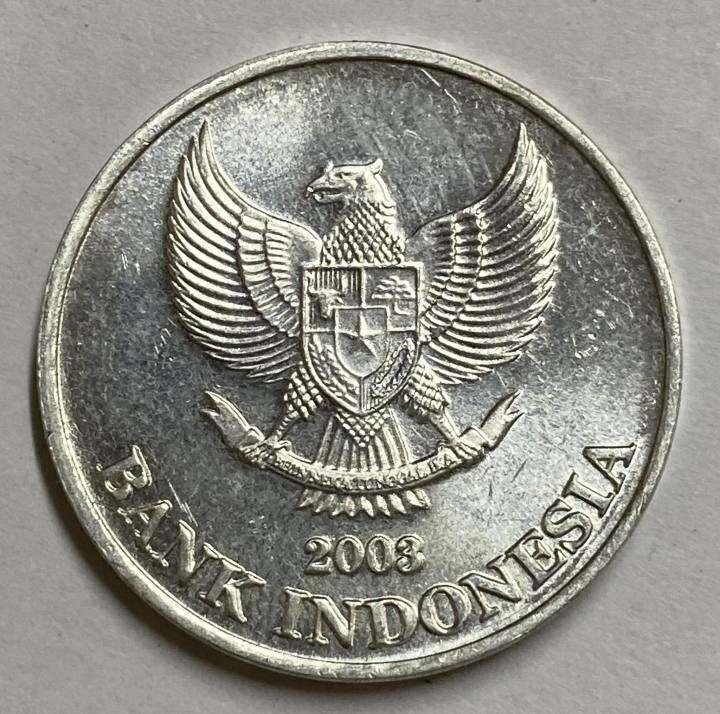coin_200_e2003: (33, 36, 687, 692)
